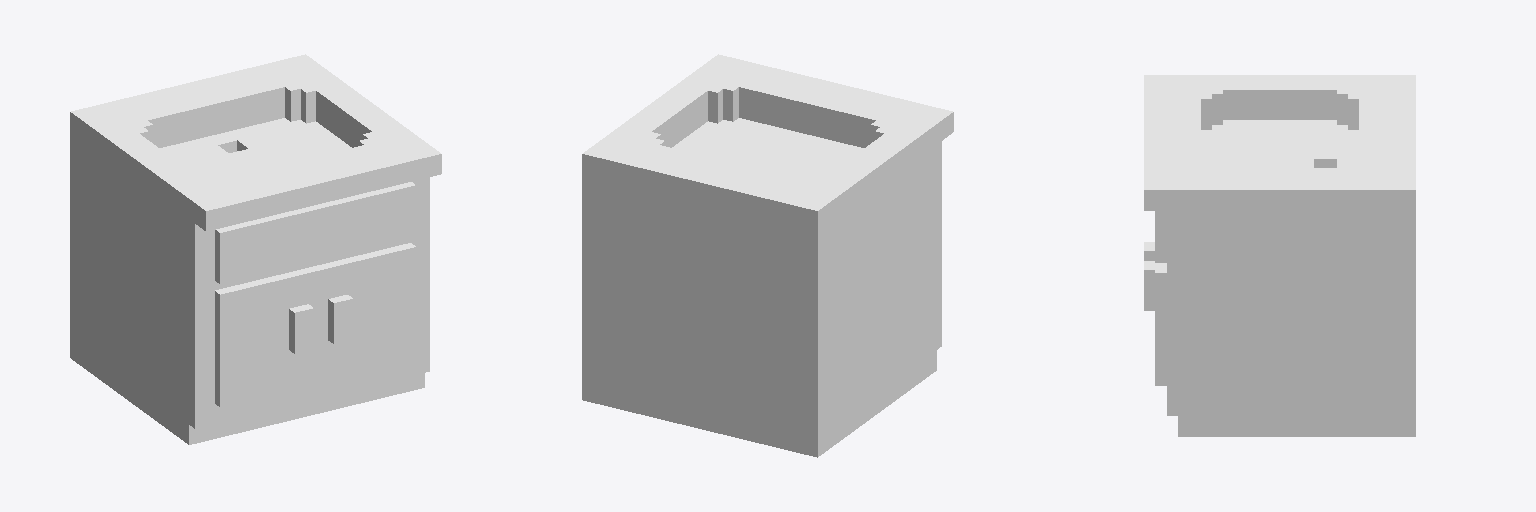
File: CupboardSink.obj
The picture shows the model from 3 angles: view 1: azimuth 30°, elevation 25°; view 2: azimuth 150°, elevation 25°; view 3: azimuth 270°, elevation 25°; orthographic projection.
Visible parts, largest first — view 1: CupboardBigDoor; view 2: CupboardBigDoor; view 3: CupboardBigDoor.
Boxes of the visible parts, <box> form: CupboardBigDoor: <box>70,54,441,444</box>; CupboardBigDoor: <box>582,54,953,457</box>; CupboardBigDoor: <box>1144,75,1415,436</box>.
Bounding box in the file's own units: 2.4 × 2.4 × 2.4.